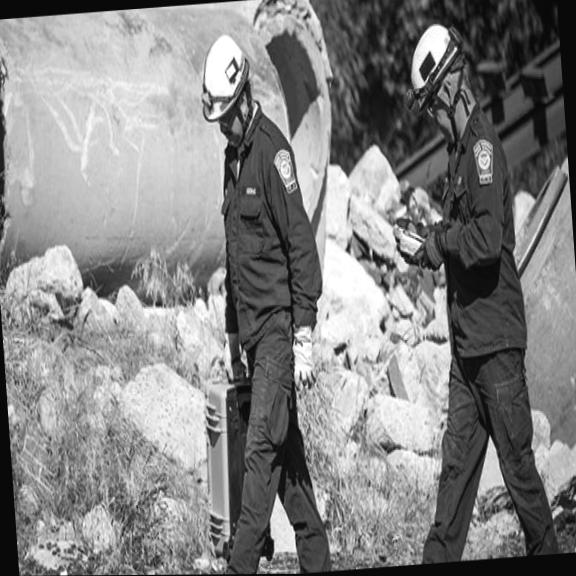no_safety_vest: (206, 102, 326, 360), (426, 104, 530, 382)
